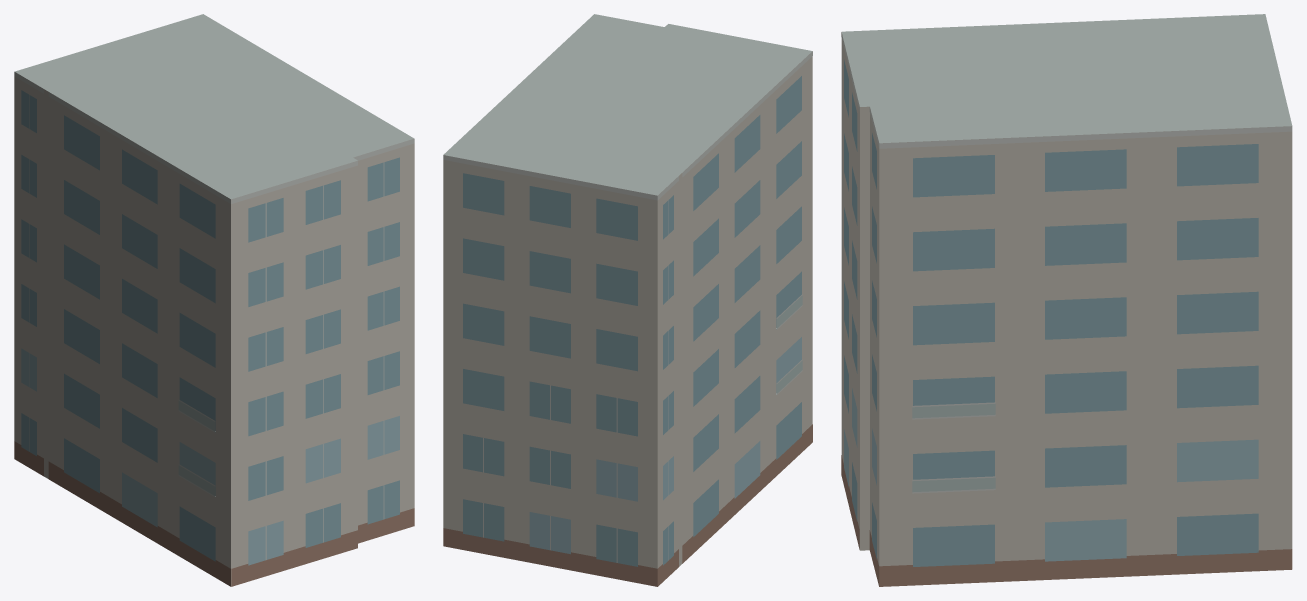
File: survey-upis-32886597.glb
3 views of the same model, side by side, from view 1: azimuth 30°, elevation 25°; view 2: azimuth 150°, elevation 25°; view 3: azimuth 270°, elevation 25° (orthographic). The views are drawn at different scales.
Visible parts, largest first — view 1: survey-upis-32886597.tmp; view 2: survey-upis-32886597.tmp; view 3: survey-upis-32886597.tmp.
Part boxes in pixels (x1,y1,x2,y2): survey-upis-32886597.tmp: (14,14,414,586); survey-upis-32886597.tmp: (443,14,812,586); survey-upis-32886597.tmp: (841,14,1292,586).
Size of the model in its own units: 12.26 by 19.6 by 18.07.
